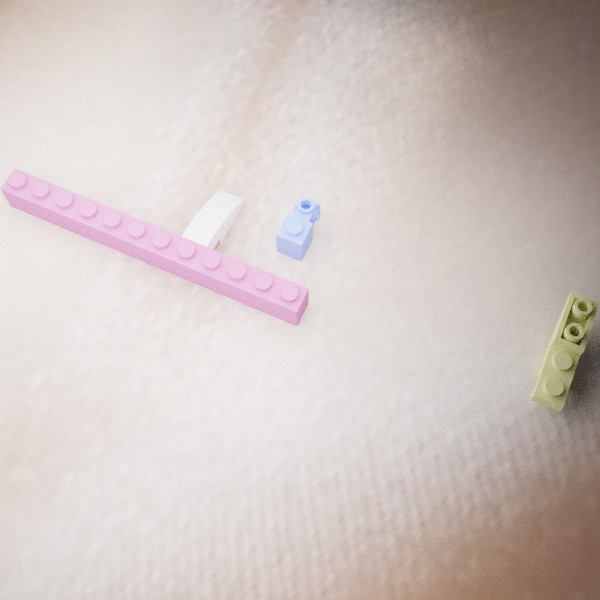lego: (0, 168, 308, 326), (530, 291, 599, 411), (179, 190, 244, 260), (275, 197, 320, 261)
